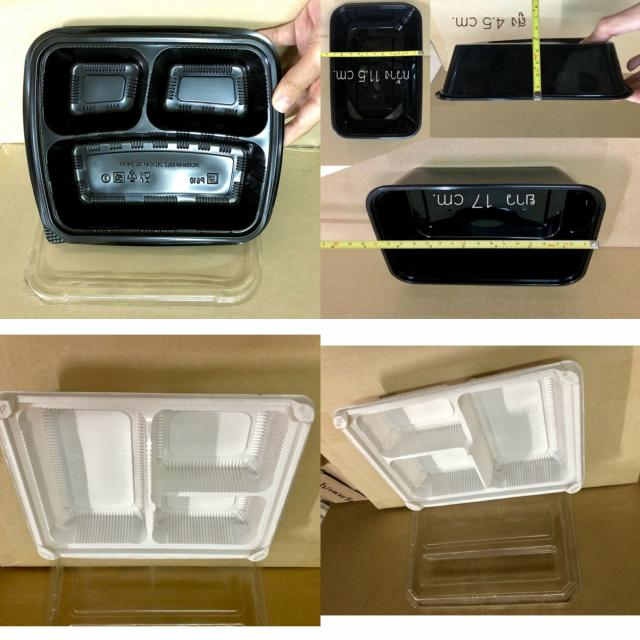plastik: (24, 27, 284, 246), (0, 392, 314, 562), (333, 361, 583, 510), (409, 493, 581, 607), (366, 167, 605, 239), (326, 3, 422, 138), (436, 38, 631, 100), (382, 249, 592, 286)
